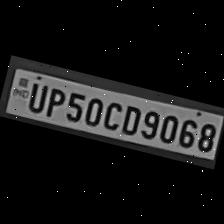0: (80, 92, 106, 128), (155, 110, 181, 144)
5: (58, 86, 86, 124)
6: (174, 113, 200, 150)
8: (192, 117, 218, 153)
9: (136, 104, 162, 140)
C: (98, 96, 123, 131)
D: (117, 100, 144, 137)
P: (41, 82, 67, 119)
U: (21, 78, 48, 114)
